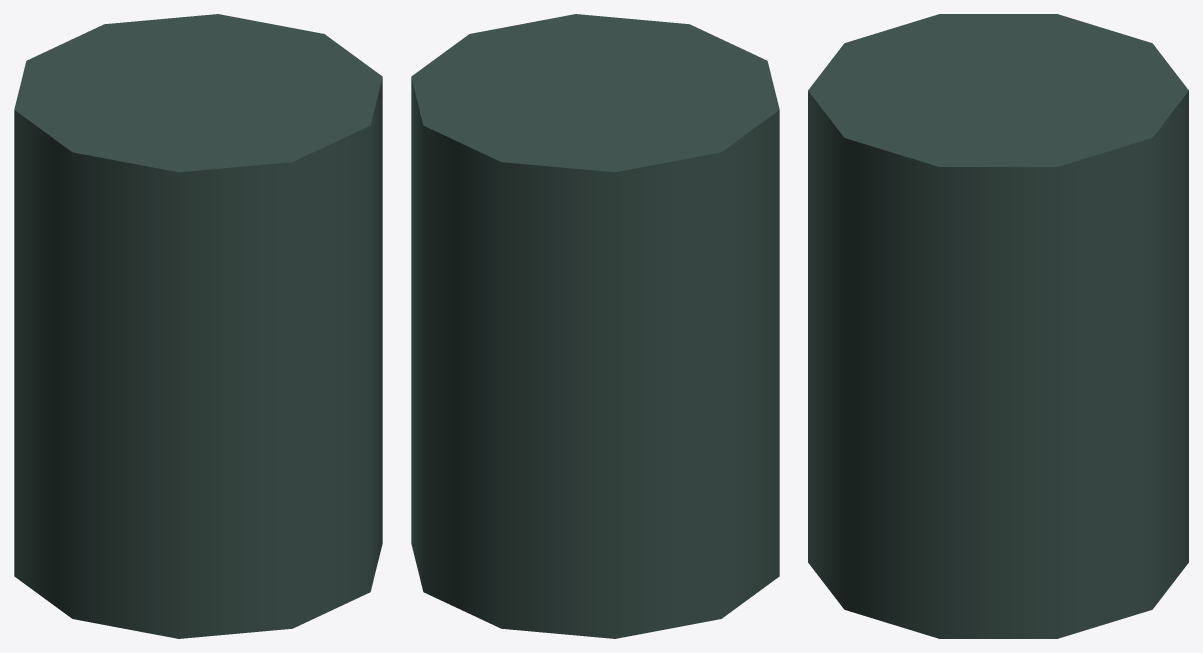
File: bin.glb
3 views of the same model, side by side, from view 1: azimuth 30°, elevation 25°; view 2: azimuth 150°, elevation 25°; view 3: azimuth 270°, elevation 25° (orthographic).
Visible parts, largest first — view 1: bin; view 2: bin; view 3: bin.
Boxes of the visible parts, x1,y1,x2,y2 form: bin: (14, 14, 382, 638); bin: (411, 14, 779, 638); bin: (808, 14, 1188, 638).
Size of the model in its own units: 0.5706 by 0.82 by 0.6.
